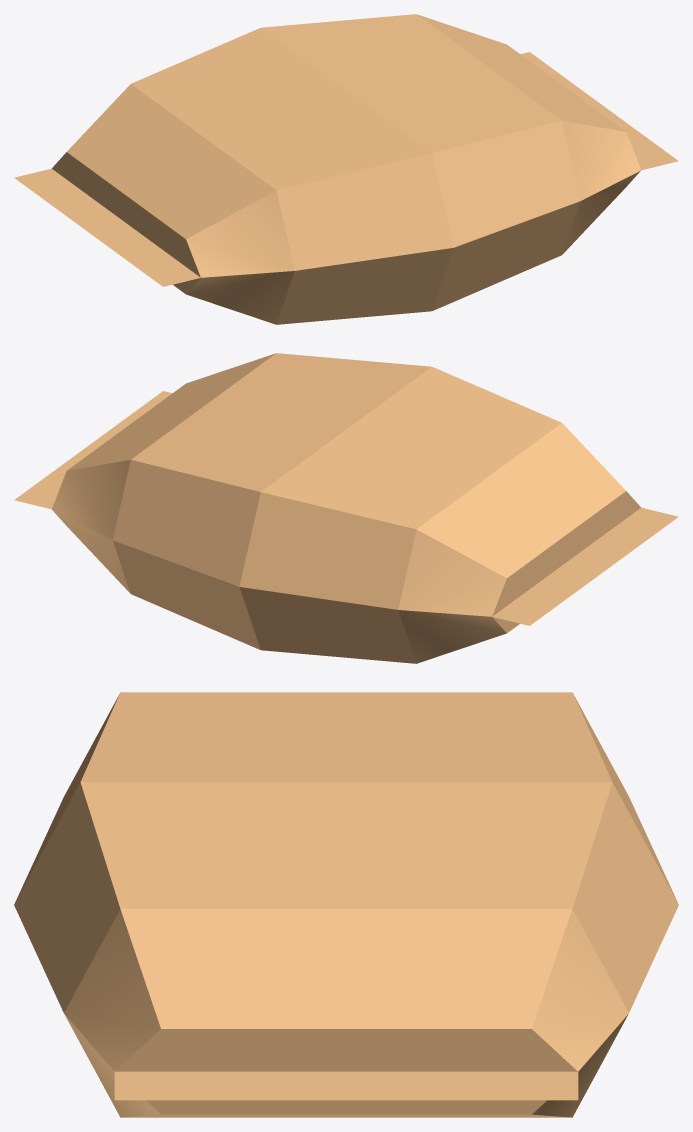
File: bagFlat.glb
3 renders of one model, top to bottom at view 1: azimuth 30°, elevation 25°; view 2: azimuth 150°, elevation 25°; view 3: azimuth 270°, elevation 25°, orthographic. The views are drawn at different scales.
Visible parts, largest first — view 1: bagFlat; view 2: bagFlat; view 3: bagFlat.
Boxes of the visible parts, <box> form: bagFlat: <box>14,14,678,324</box>; bagFlat: <box>14,353,678,663</box>; bagFlat: <box>14,692,678,1117</box>.
Size of the model in its own units: 0.26 by 0.0762 by 0.187.
